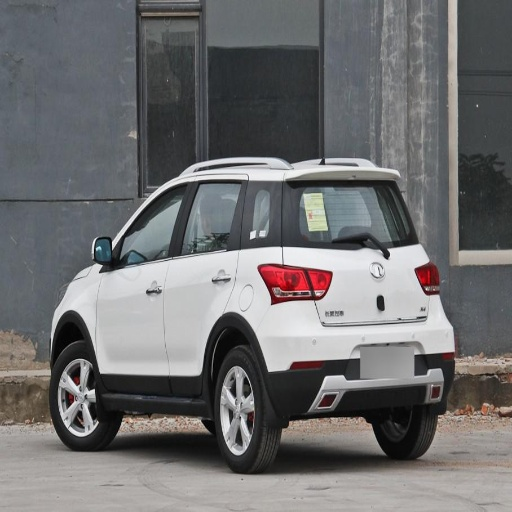back_bumper: (254, 289, 455, 413)
back_glass: (282, 181, 416, 247)
back_left_door: (163, 175, 244, 394)
trunk: (299, 247, 425, 326)
